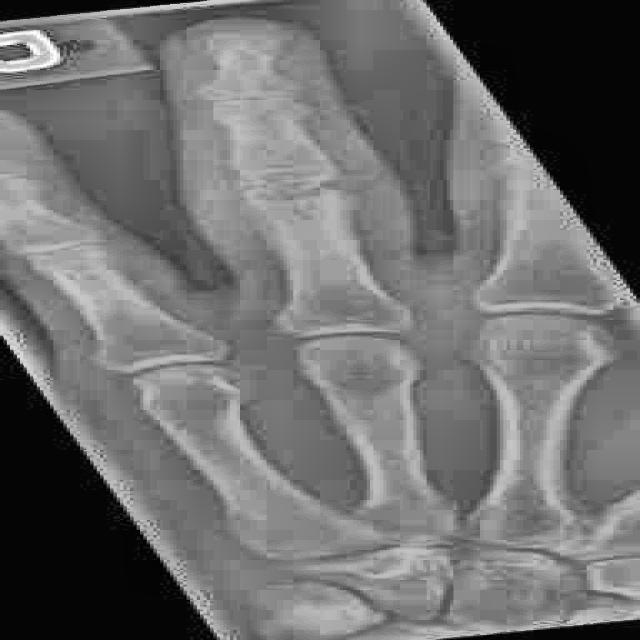fingers positive: (214, 160, 375, 229)
